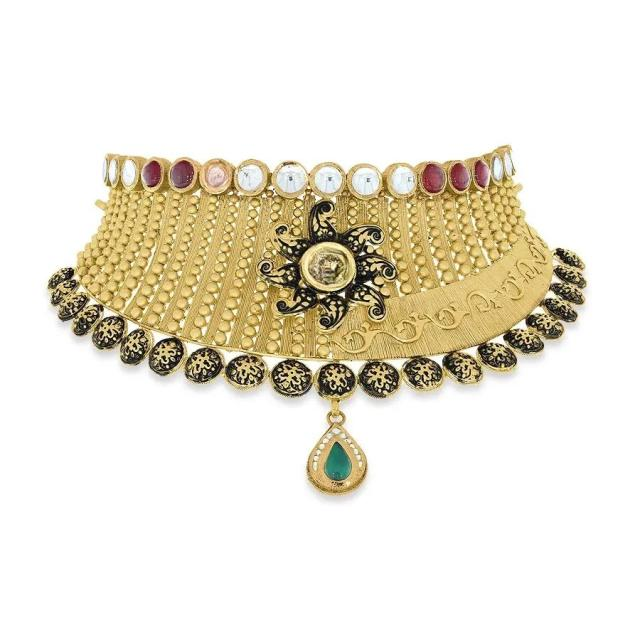missing gem: (306, 247, 350, 286), (205, 163, 227, 186)
